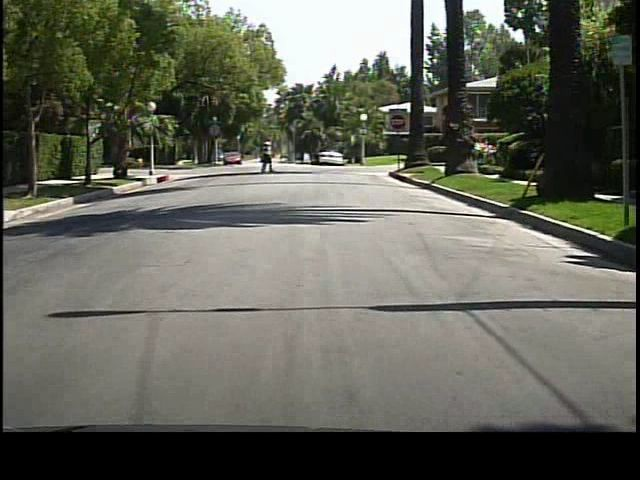person: (260, 135, 277, 173)
